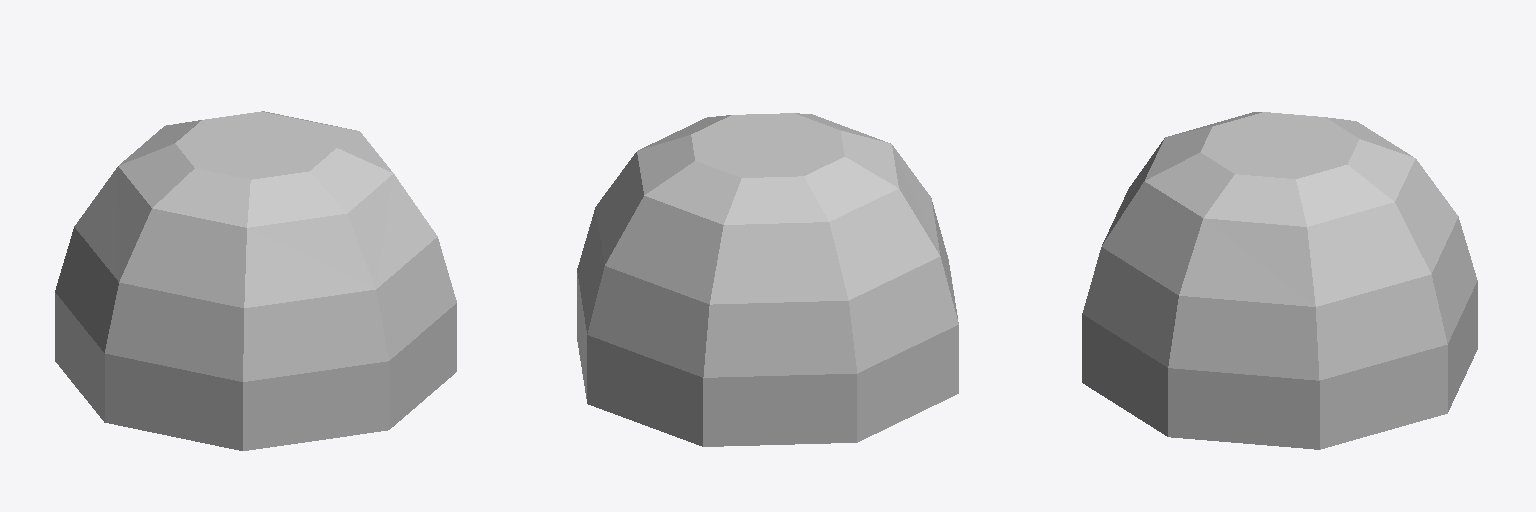
Rendered from Tallon Overworld Skybox.obj.
The picture shows the model from 3 angles: view 1: azimuth 30°, elevation 25°; view 2: azimuth 150°, elevation 25°; view 3: azimuth 270°, elevation 25°; orthographic projection.
Visible parts, largest first — view 1: e9f6c159_CMDL.001; view 2: e9f6c159_CMDL.001; view 3: e9f6c159_CMDL.001.
Boxes of the visible parts, <box> form: e9f6c159_CMDL.001: <box>55,111,456,450</box>; e9f6c159_CMDL.001: <box>577,113,958,446</box>; e9f6c159_CMDL.001: <box>1082,112,1477,449</box>.
Bounding box in the file's own units: 95.67 × 58.95 × 95.67.